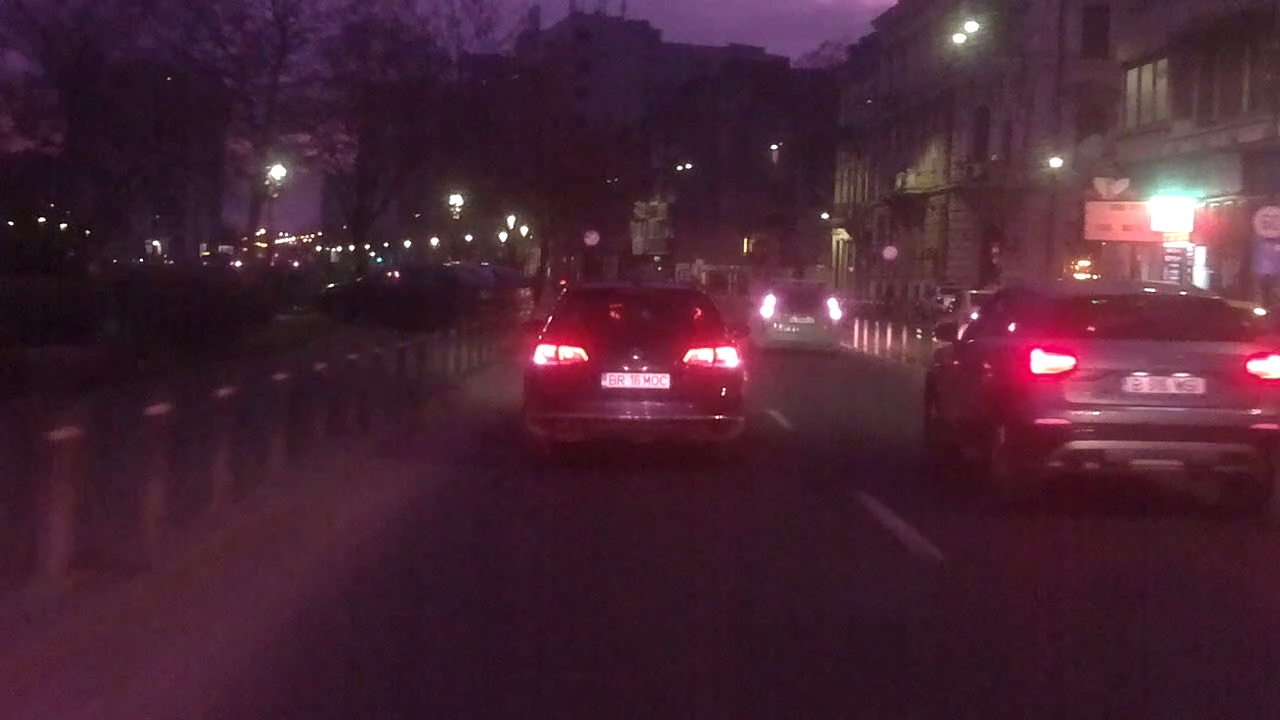license-plate: (598, 370, 673, 390)
